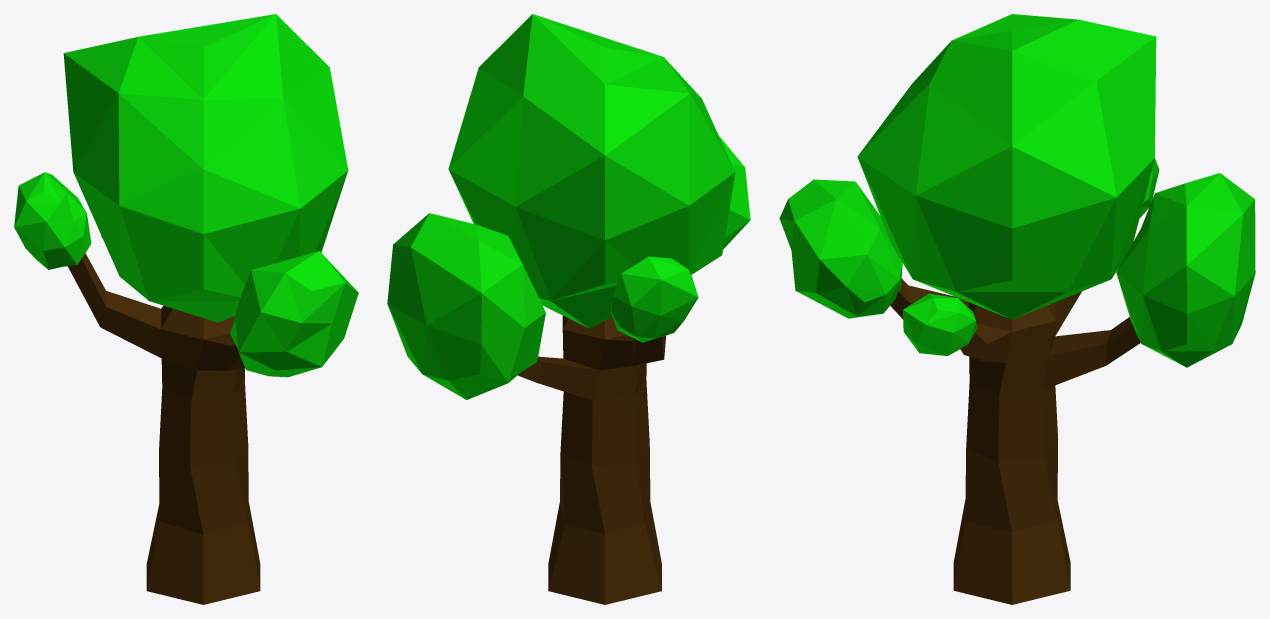
The model's file is Drzewo I.FBX.
The picture shows the model from 3 angles, left to right: view 1: azimuth 30°, elevation 25°; view 2: azimuth 150°, elevation 25°; view 3: azimuth 270°, elevation 25°; orthographic projection. The views are drawn at different scales.
Parts seen in each view (by area): view 1: GeoSphere013, Cylinder005, GeoSphere015, GeoSphere017; view 2: GeoSphere013, Cylinder005, GeoSphere014, GeoSphere017, GeoSphere015; view 3: GeoSphere013, Cylinder005, GeoSphere014, GeoSphere015, GeoSphere016.
Part boxes in pixels (bbox=[...]): GeoSphere013: bbox=[63, 14, 348, 322]; Cylinder005: bbox=[68, 253, 260, 604]; GeoSphere015: bbox=[230, 251, 358, 377]; GeoSphere017: bbox=[14, 172, 91, 269]; GeoSphere013: bbox=[448, 14, 735, 328]; Cylinder005: bbox=[518, 315, 666, 604]; GeoSphere014: bbox=[387, 213, 545, 399]; GeoSphere017: bbox=[610, 256, 698, 342]; GeoSphere015: bbox=[719, 136, 750, 249]; GeoSphere013: bbox=[857, 14, 1156, 319]; Cylinder005: bbox=[890, 278, 1140, 604]; GeoSphere014: bbox=[1116, 173, 1255, 367]; GeoSphere015: bbox=[779, 179, 902, 318]; GeoSphere016: bbox=[903, 293, 977, 355].
Bounding box in the file's own units: 27.86 × 53.47 × 41.05.
